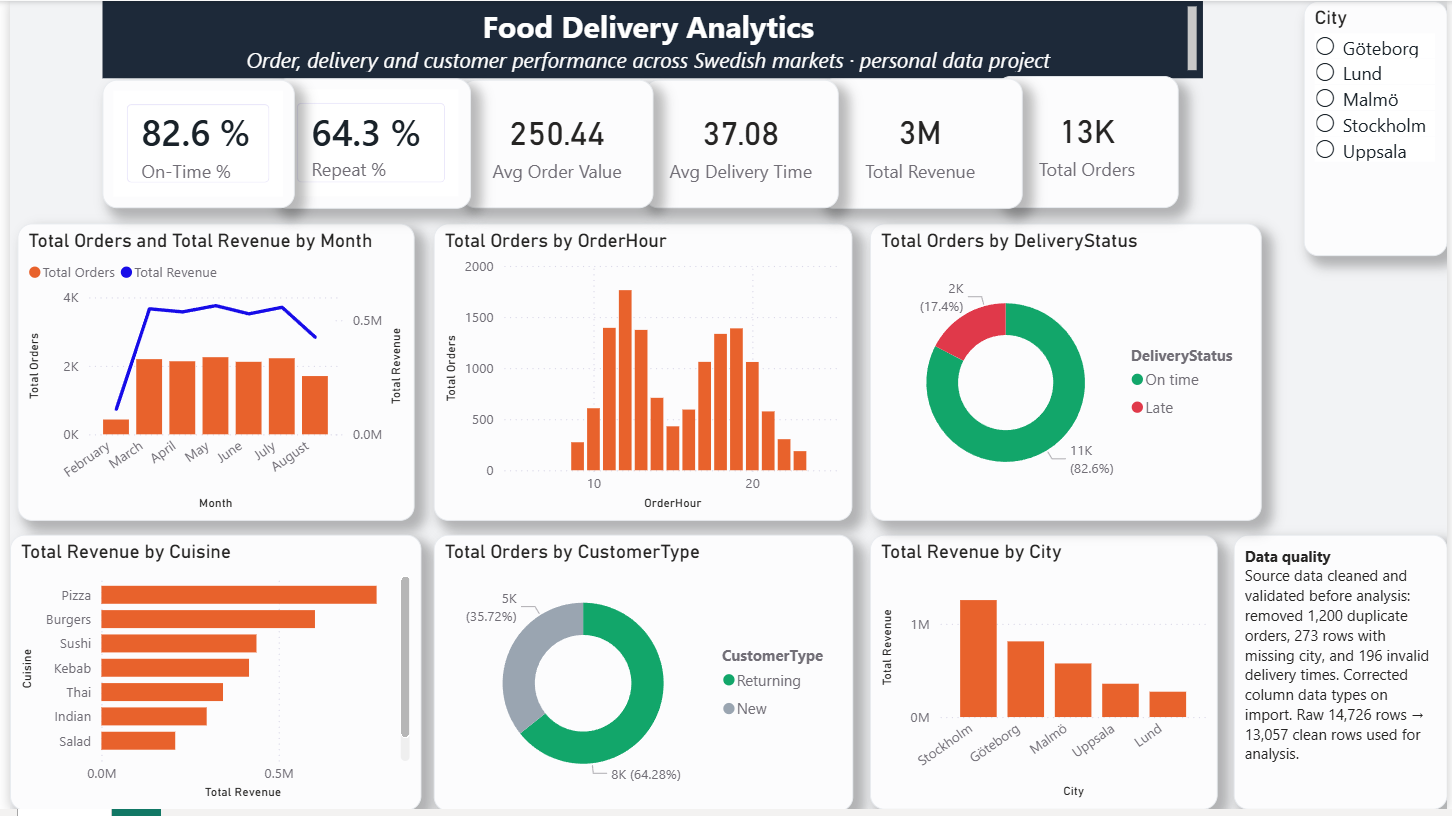

The page's visual inventory and layout, read from the dashboard file:
{"tool":"powerbi","page":{"name":"Page 1","canvas":[1280,720],"ordinal":0},"visuals":[{"type":"lineClusteredColumnComboChart","fields":{"Category":["Orders.OrderDate.Variation.Date Hierarchy.Year","Orders.OrderDate.Variation.Date Hierarchy.Quarter","Orders.OrderDate.Variation.Date Hierarchy.Month","Orders.OrderDate.Variation.Date Hierarchy.Day"],"Y":["Orders.Total Orders"],"Y2":["Orders.Total Revenue"]},"box":[6.7,198.1,354,264.9],"z":5000},{"type":"clusteredColumnChart","fields":{"Category":["Orders.OrderHour"],"Y":["Orders.Total Orders"]},"box":[377.4,198.1,372.9,264.9],"z":7000},{"type":"clusteredBarChart","fields":{"Category":["Orders.Cuisine"],"Y":["Orders.Total Revenue"]},"box":[0,474.8,366.4,245.6],"z":8000},{"type":"donutChart","fields":{"Category":["Orders.CustomerType"],"Y":["Orders.Total Orders"]},"box":[376.9,475.1,373.8,246.1],"z":9000},{"type":"clusteredColumnChart","fields":{"Category":["Orders.City"],"Y":["Orders.Total Revenue"]},"box":[766.3,475.1,310,244.5],"z":10000},{"type":"listSlicer","fields":{"Values":["Orders.City"]},"box":[1152.6,0,127.7,227.4],"z":11000},{"type":"textbox","box":[1090.3,475.1,190,244.5],"z":12000},{"type":"donutChart","fields":{"Category":["Orders.DeliveryStatus"],"Y":["Orders.Total Orders"]},"box":[765.9,198.1,348.4,264.9],"z":13000},{"type":"textbox","box":[82.6,0,979.7,68.5],"z":14000},{"type":"card","fields":{"Values":["Orders.Total Orders"]},"box":[878.3,66.8,162.5,118],"z":17000},{"type":"card","fields":{"Values":["Orders.Total Revenue"]},"box":[720.2,69,181.4,115.8],"z":17500},{"type":"card","fields":{"Values":["Orders.Avg Delivery Time"]},"box":[564.4,70.1,173.7,114.7],"z":18000},{"type":"card","fields":{"Values":["Orders.Avg Order Value"]},"box":[401.9,70.1,171.4,114.7],"z":18500},{"type":"cardVisual","fields":{"Data":["Orders.Repeat %"]},"box":[233.8,69,177,115.8],"z":19000},{"type":"cardVisual","fields":{"Data":["Orders.On-Time %"]},"box":[82.4,70.1,171.4,114.7],"z":19500}]}

Visuals, with their boxes in screenshot pixels (x1, y1, x2, y2), scaled from the page's 1280x720 canvas onto the 1452x816 screenshot:
lineClusteredColumnComboChart - Orders.OrderDate.Variation.Date Hierarchy.Year x Orders.OrderDate.Variation.Date Hierarchy.Quarter: box=[8, 225, 409, 525]
clusteredColumnChart - Orders.OrderHour x Orders.Total Orders: box=[428, 225, 851, 525]
clusteredBarChart - Orders.Cuisine x Orders.Total Revenue: box=[0, 538, 416, 815]
donutChart - Orders.CustomerType x Orders.Total Orders: box=[428, 538, 852, 815]
clusteredColumnChart - Orders.City x Orders.Total Revenue: box=[869, 538, 1221, 815]
listSlicer - Orders.City: box=[1307, 0, 1451, 258]
textbox: box=[1237, 538, 1451, 815]
donutChart - Orders.DeliveryStatus x Orders.Total Orders: box=[869, 225, 1264, 525]
textbox: box=[94, 0, 1205, 78]
card - Orders.Total Orders: box=[996, 76, 1181, 209]
card - Orders.Total Revenue: box=[817, 78, 1023, 209]
card - Orders.Avg Delivery Time: box=[640, 79, 837, 209]
card - Orders.Avg Order Value: box=[456, 79, 650, 209]
cardVisual - Orders.Repeat %: box=[265, 78, 466, 209]
cardVisual - Orders.On-Time %: box=[93, 79, 288, 209]
